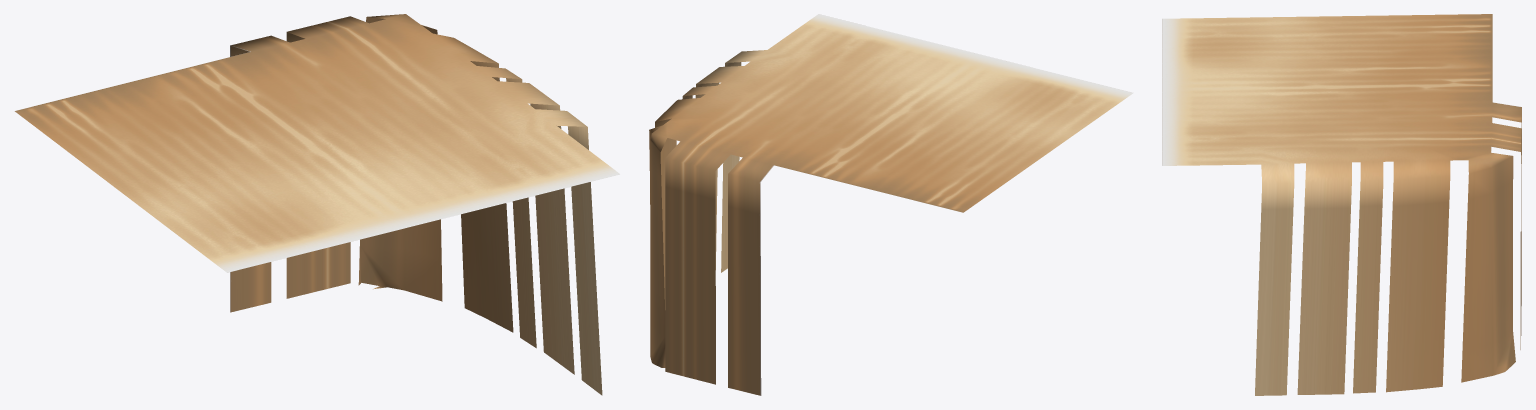
File: Fountain Cloth 2.fbx
3 views of the same model, side by side, from view 1: azimuth 30°, elevation 25°; view 2: azimuth 150°, elevation 25°; view 3: azimuth 270°, elevation 25° (orthographic). The views are drawn at different scales.
Visible parts, largest first — view 1: pPlane2; view 2: pPlane2; view 3: pPlane2.
Part boxes in pixels (x1=…): pPlane2: x1=14, y1=14, x2=619, y2=395; pPlane2: x1=649, y1=14, x2=1133, y2=395; pPlane2: x1=1162, y1=14, x2=1521, y2=395.
Size of the model in its own units: 31.85 by 19.72 by 29.35.
